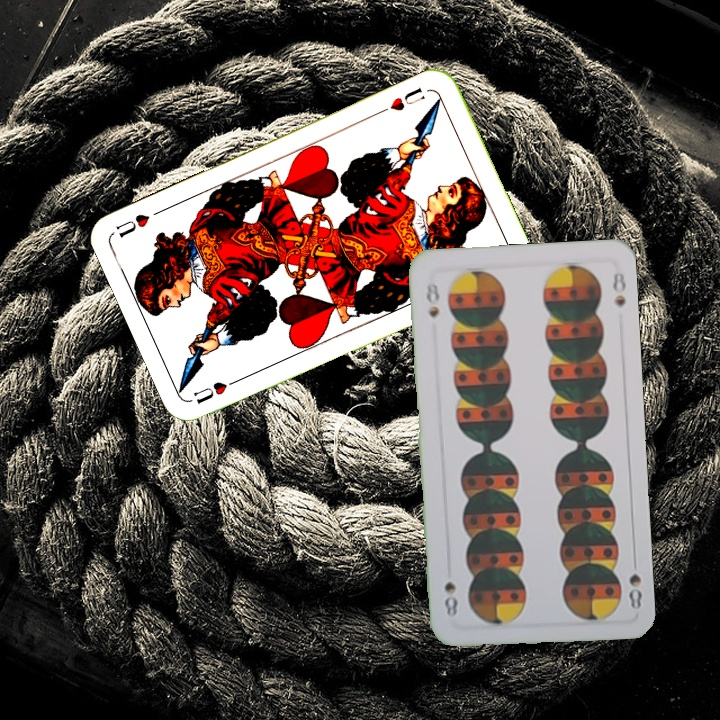HU: (189, 373, 244, 407), (385, 83, 428, 114)
S8: (625, 553, 645, 611), (422, 279, 442, 320)
